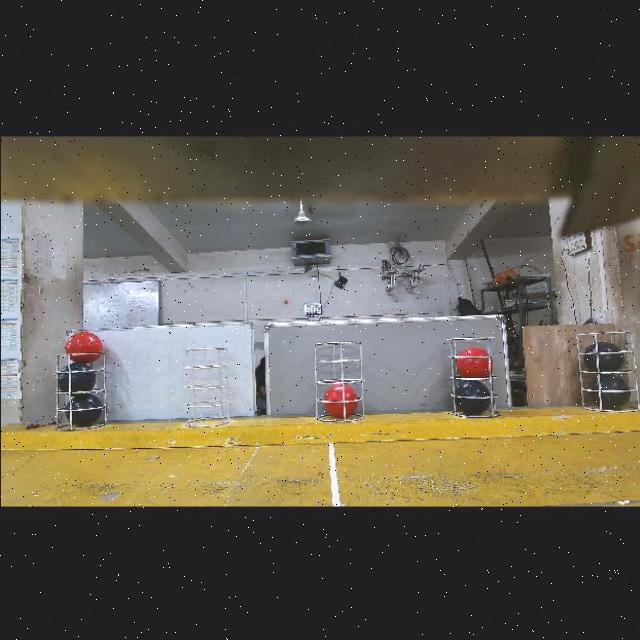P: (588, 373, 630, 409), (583, 340, 623, 374), (57, 361, 95, 395), (455, 379, 490, 415), (65, 391, 101, 425)
R: (64, 330, 102, 362), (455, 345, 492, 376), (323, 383, 357, 416)
S: (576, 324, 640, 408), (50, 348, 108, 436), (304, 340, 364, 422), (446, 334, 502, 416), (182, 342, 228, 426)
